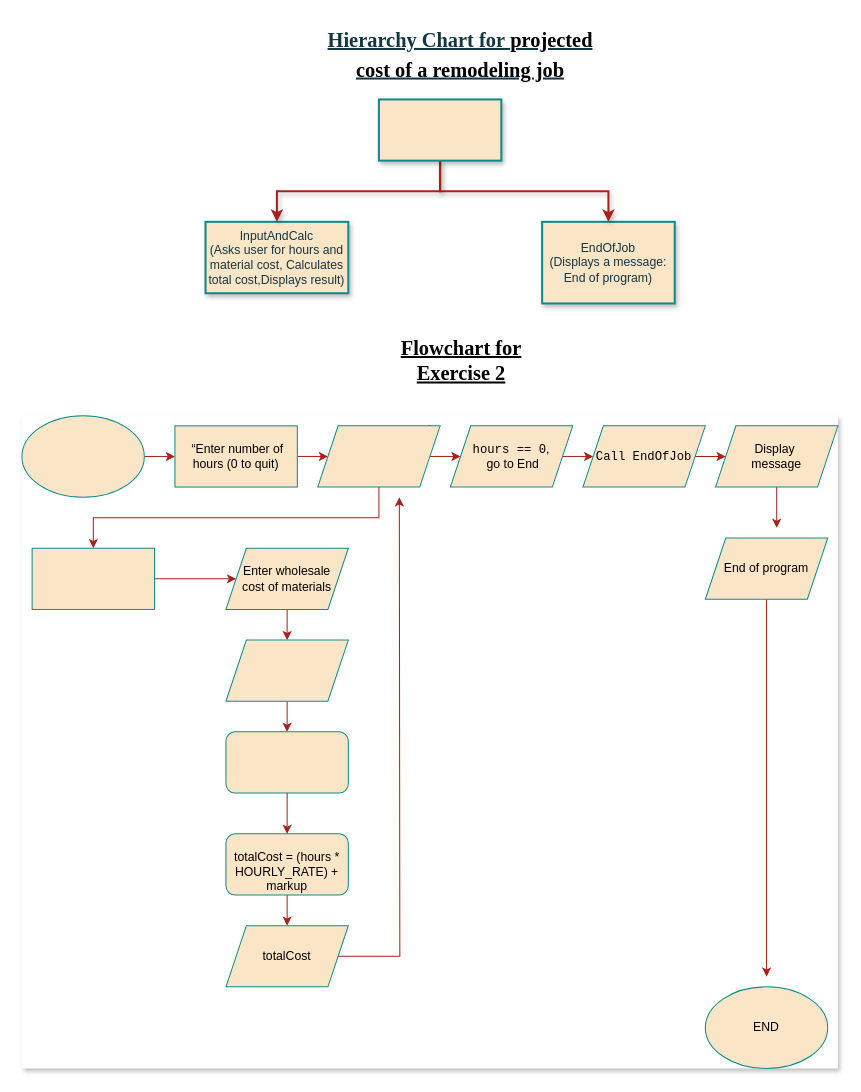
This 861x1092 diagram has some shape labels left out. The shapes that lost their labels are listed below. From the top down, each one's centre as x and y in pixels, then its label:
[440,131]: Main (Calls other modules and controls the loop)
[82,456]: Start
[378,456]: hours
[93,578]: Else:
[286,670]: MaterialCost
[286,762]: markup = materialCost * 1.2
